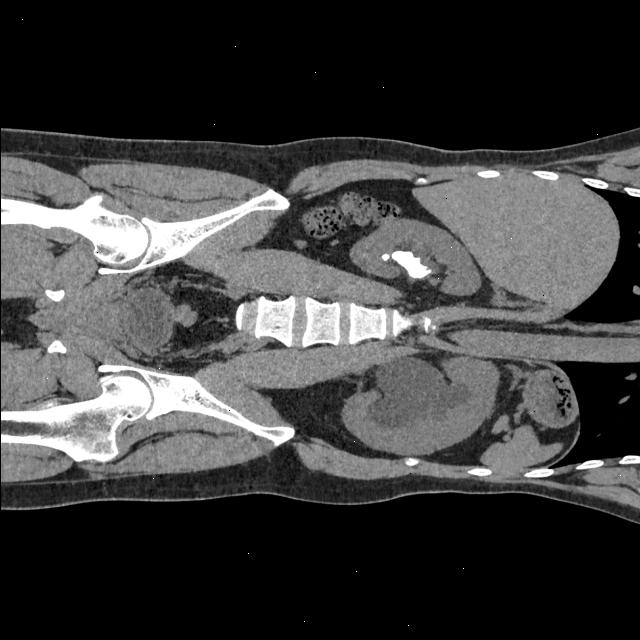kidneystone: (391, 251, 430, 279), (381, 254, 390, 261)
